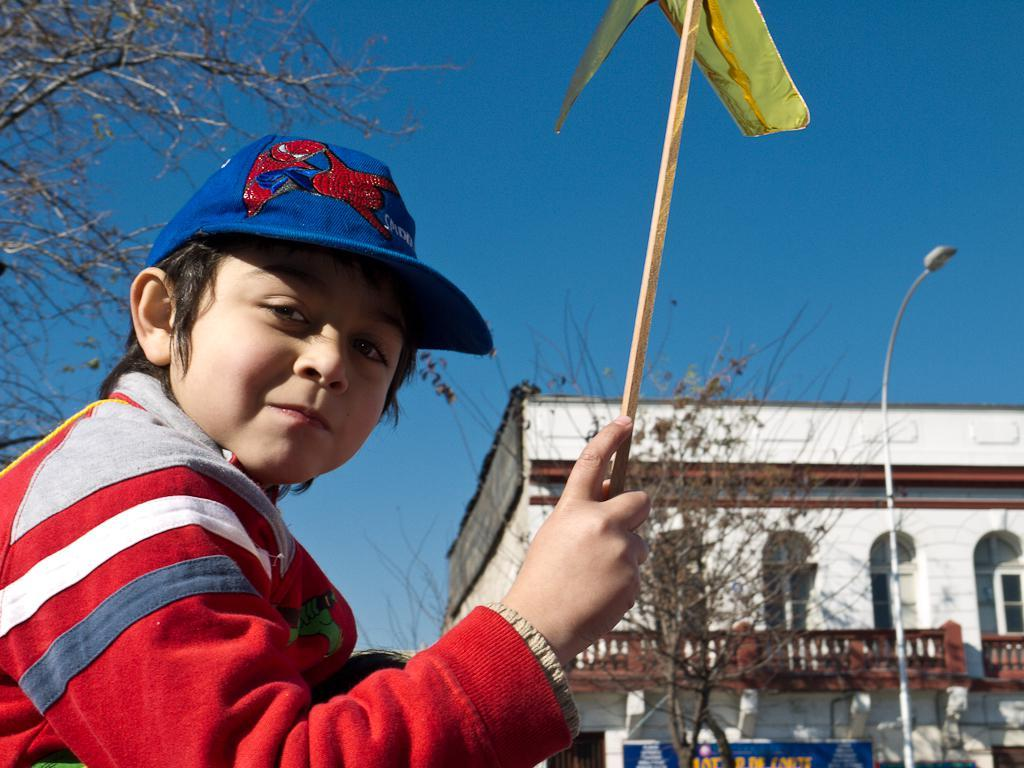Hat: (142, 134, 498, 358)
